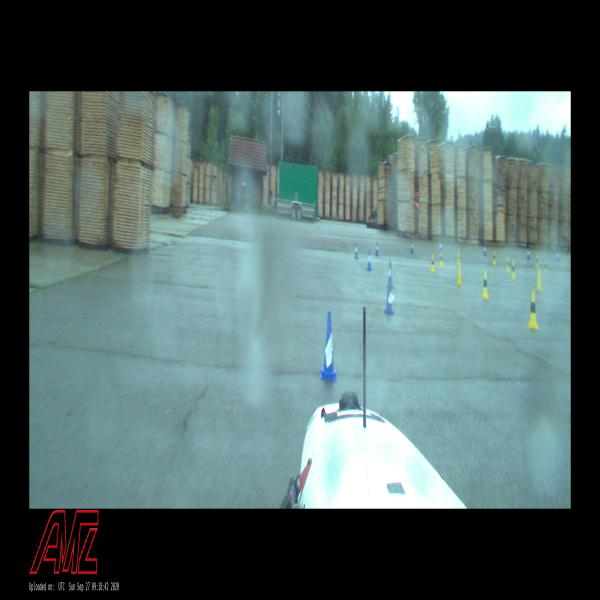blue_cone: (320, 312, 338, 380), (383, 280, 395, 314), (386, 262, 394, 288), (366, 250, 372, 270), (354, 243, 358, 258), (375, 242, 378, 256)
yellow_cone: (528, 292, 538, 329), (481, 271, 489, 299), (456, 264, 462, 284), (536, 270, 542, 290), (430, 254, 435, 272), (506, 256, 510, 273), (511, 262, 515, 278), (439, 252, 443, 267), (492, 252, 496, 264)
